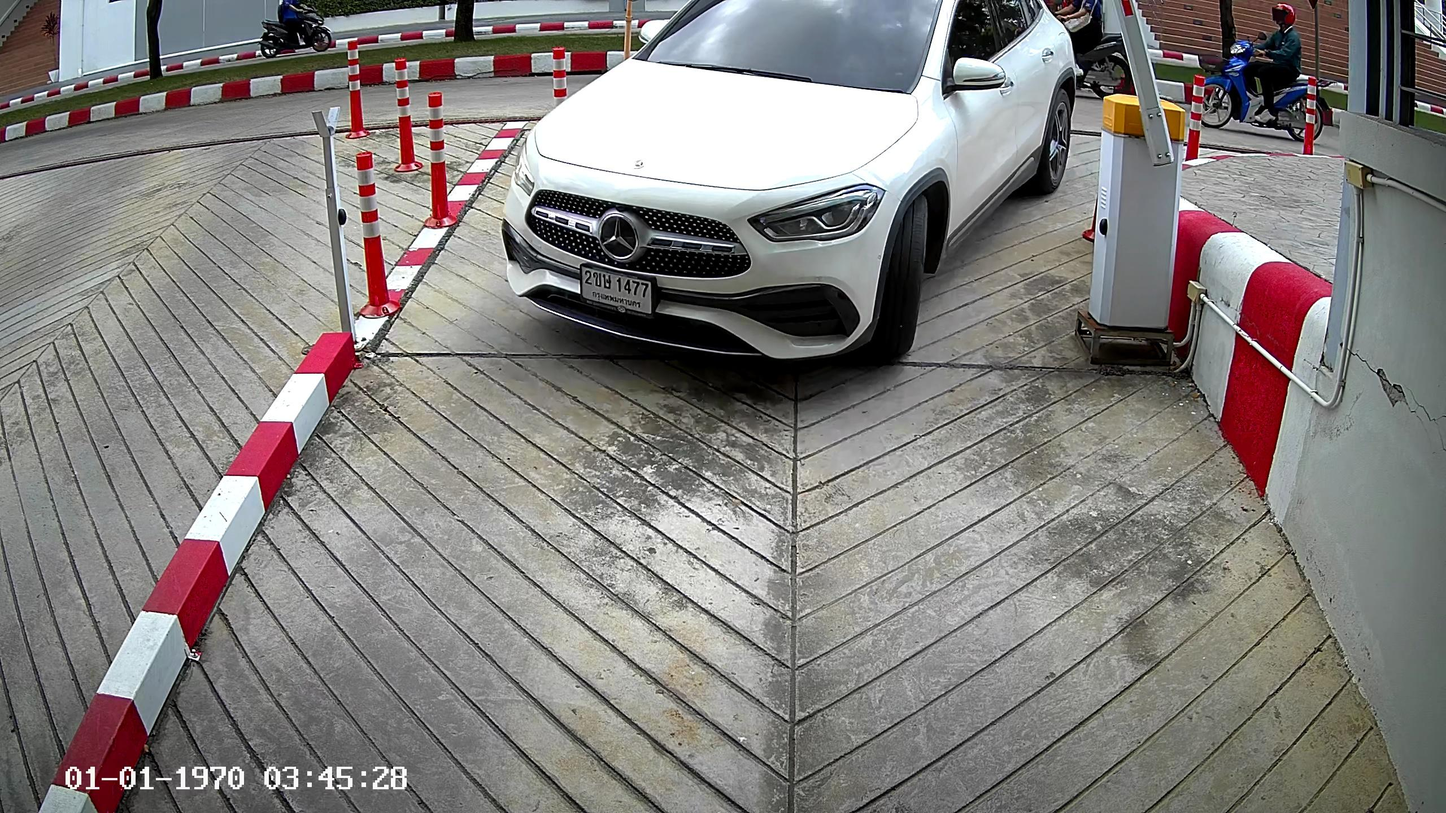car: (500, 2, 1078, 370)
license-plate: (578, 260, 655, 320)
